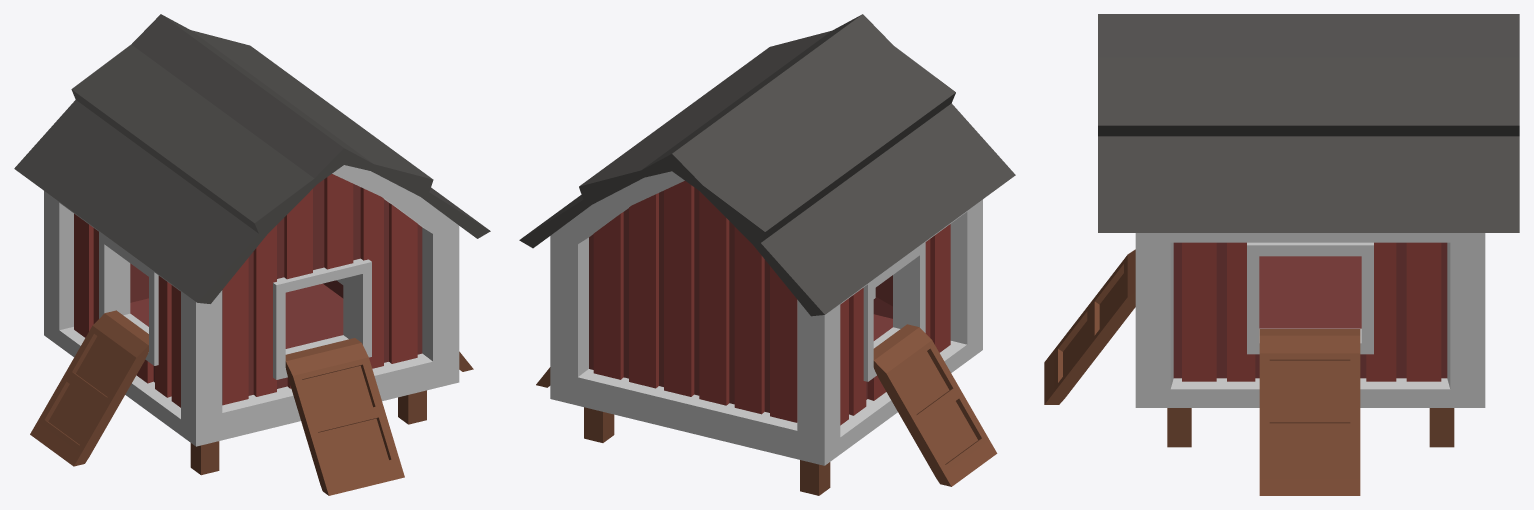
Rendered from coop.glb.
3 renders of one model, left to right at view 1: azimuth 30°, elevation 25°; view 2: azimuth 150°, elevation 25°; view 3: azimuth 270°, elevation 25°, orthographic. The views are drawn at different scales.
Visible parts, largest first — view 1: ChickenCoop_Cube.015; view 2: ChickenCoop_Cube.015; view 3: ChickenCoop_Cube.015.
Part boxes in pixels (<box>): ChickenCoop_Cube.015: <box>14,14,490,495</box>; ChickenCoop_Cube.015: <box>519,14,1015,495</box>; ChickenCoop_Cube.015: <box>1044,14,1519,495</box>.
Bounding box in the file's own units: 2.41 × 1.85 × 2.15.
1 material, 1 textured.
